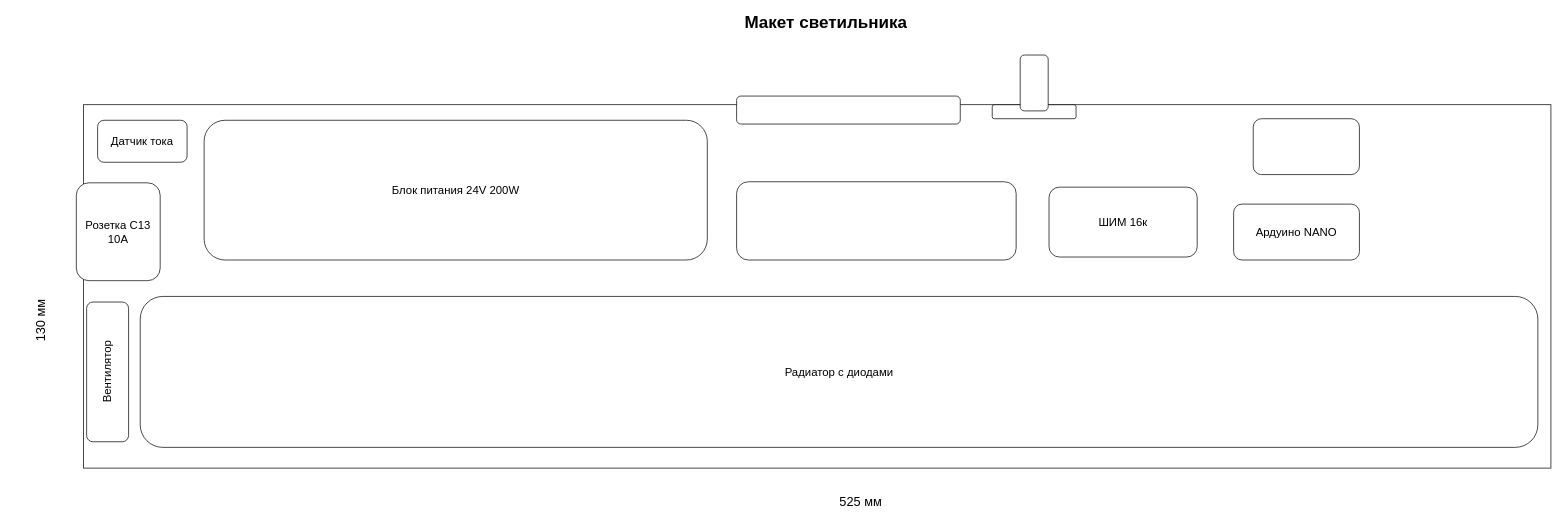
Some shapes in this 1563 by 528 pixel diagram are drawn without their labels. Here are the shapes that lost their labels. From the top down, the box of each, then its label:
(736, 95, 960, 124): LCD 1602
(1253, 118, 1359, 175): Часы
(736, 181, 1016, 260): Плата с драйверами
